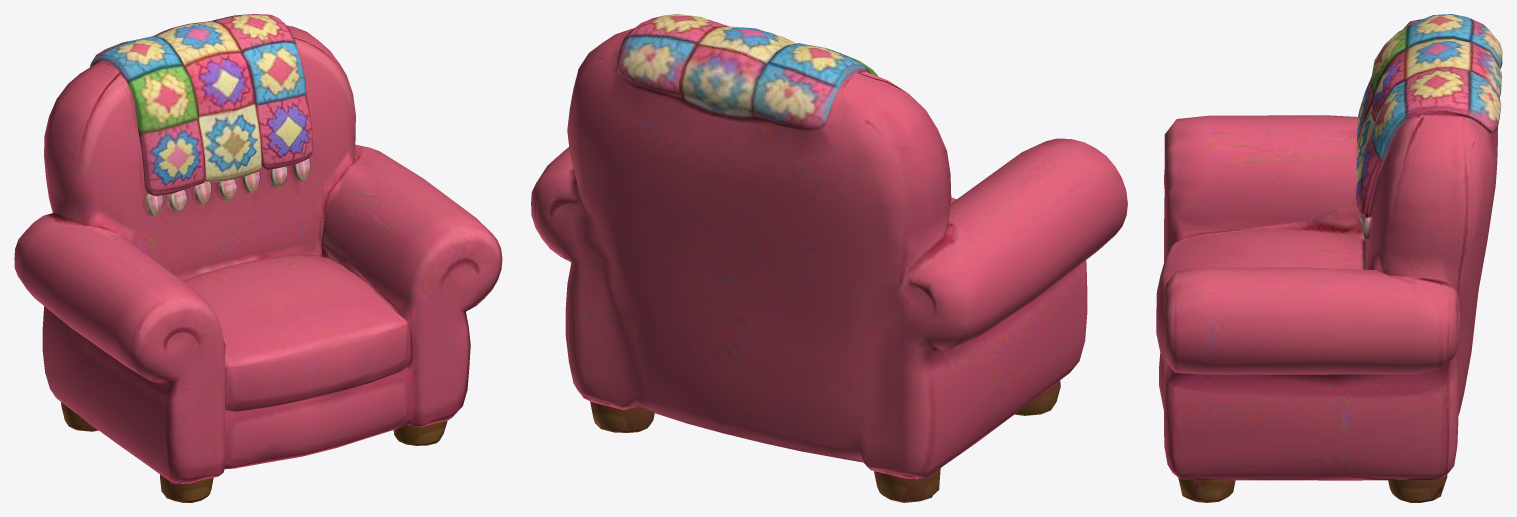
File: item-armchair.glb
The picture shows the model from 3 angles, left to right: view 1: azimuth 30°, elevation 25°; view 2: azimuth 150°, elevation 25°; view 3: azimuth 270°, elevation 25°; orthographic projection. The views are drawn at different scales.
Size of the model in its own units: 0.9565 by 0.856 by 0.6992.
1 material, 1 textured.
